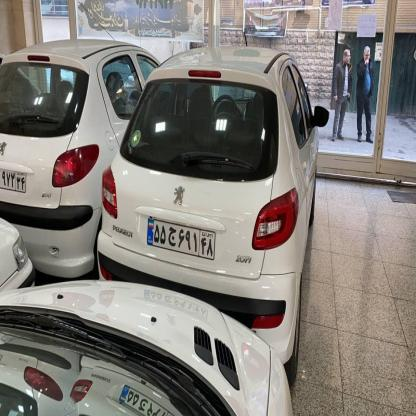Car: (98, 17, 312, 372), (0, 272, 297, 416), (0, 22, 160, 281)
